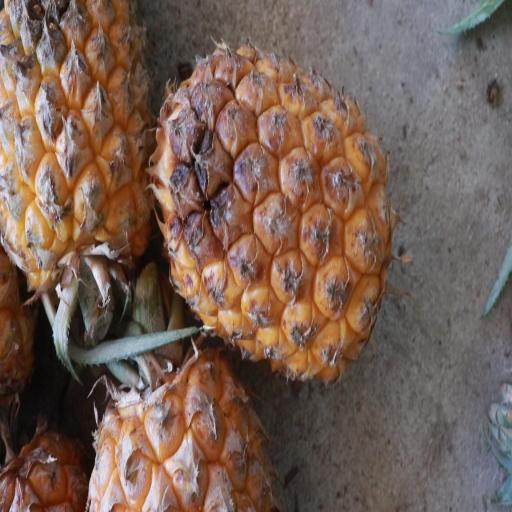Pineapple - v8 v1: (142, 37, 396, 392), (0, 2, 157, 327), (80, 298, 274, 512)
